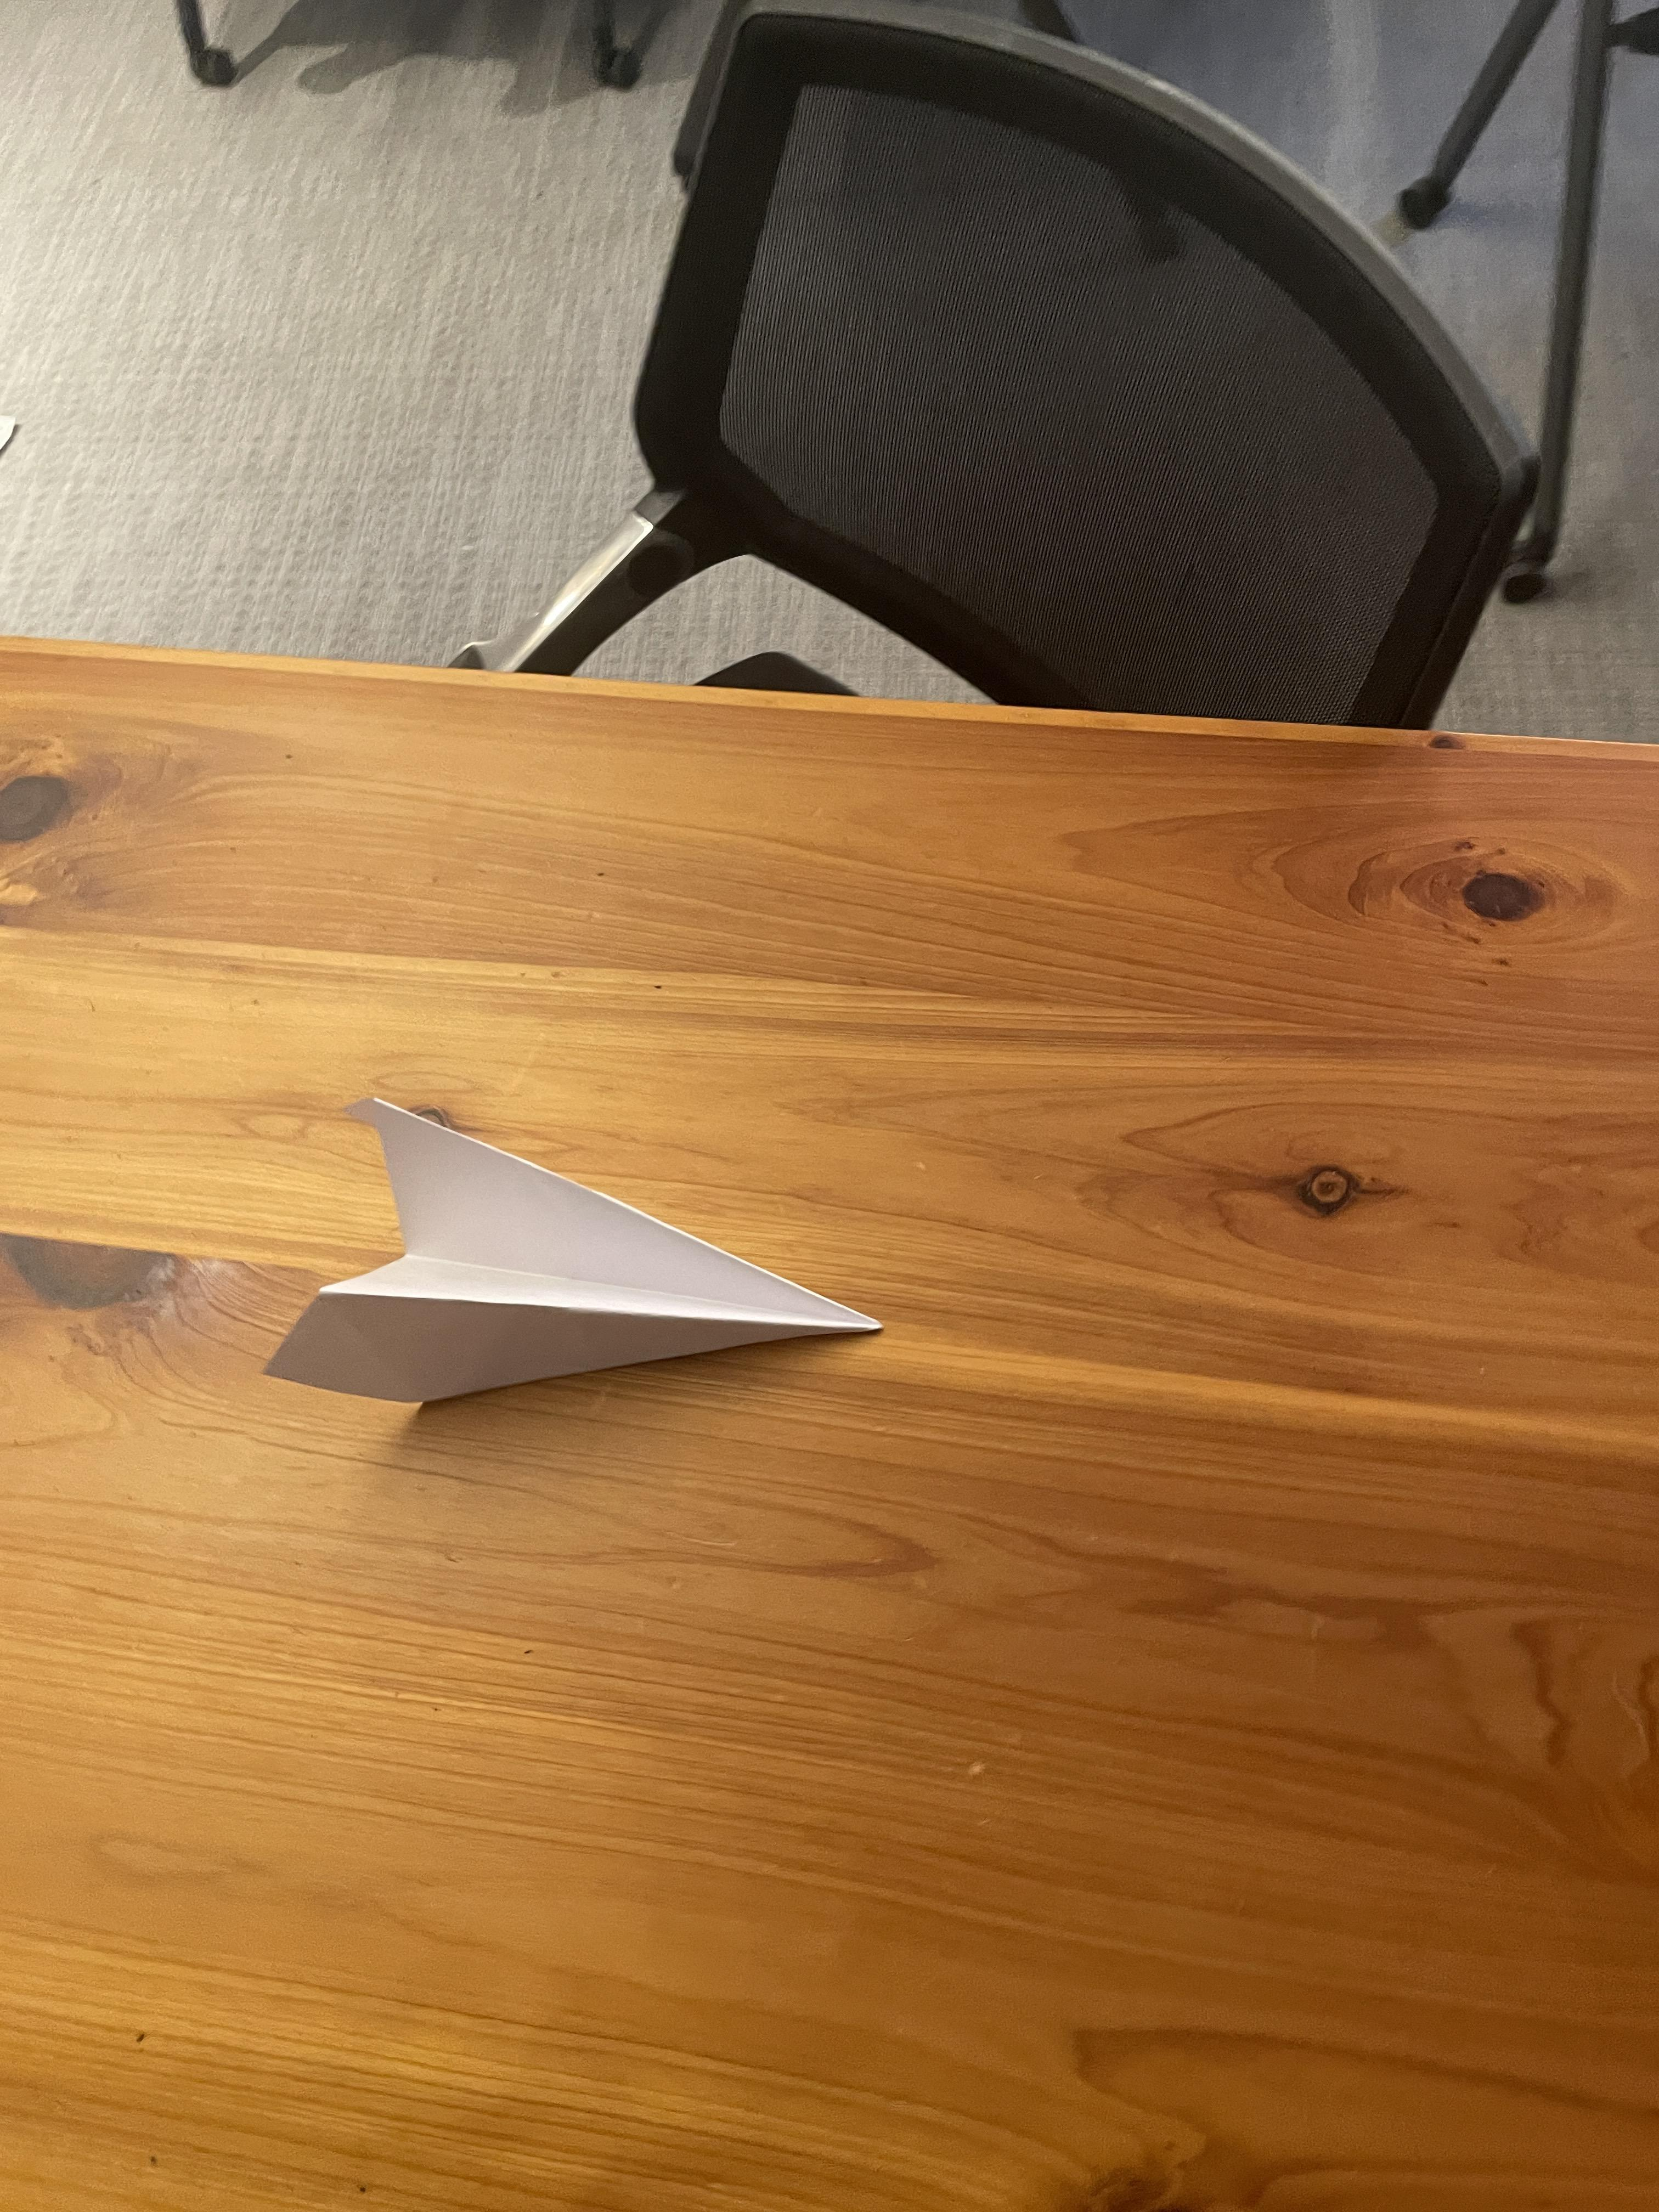shape_3: (208, 945, 1144, 1604)
